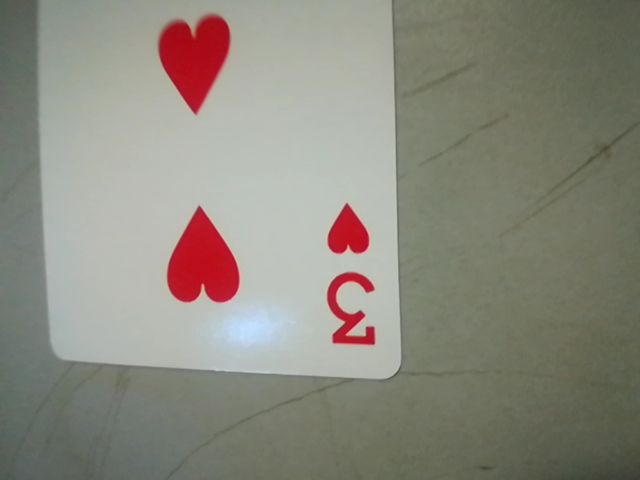hx 3: (310, 189, 390, 359)
